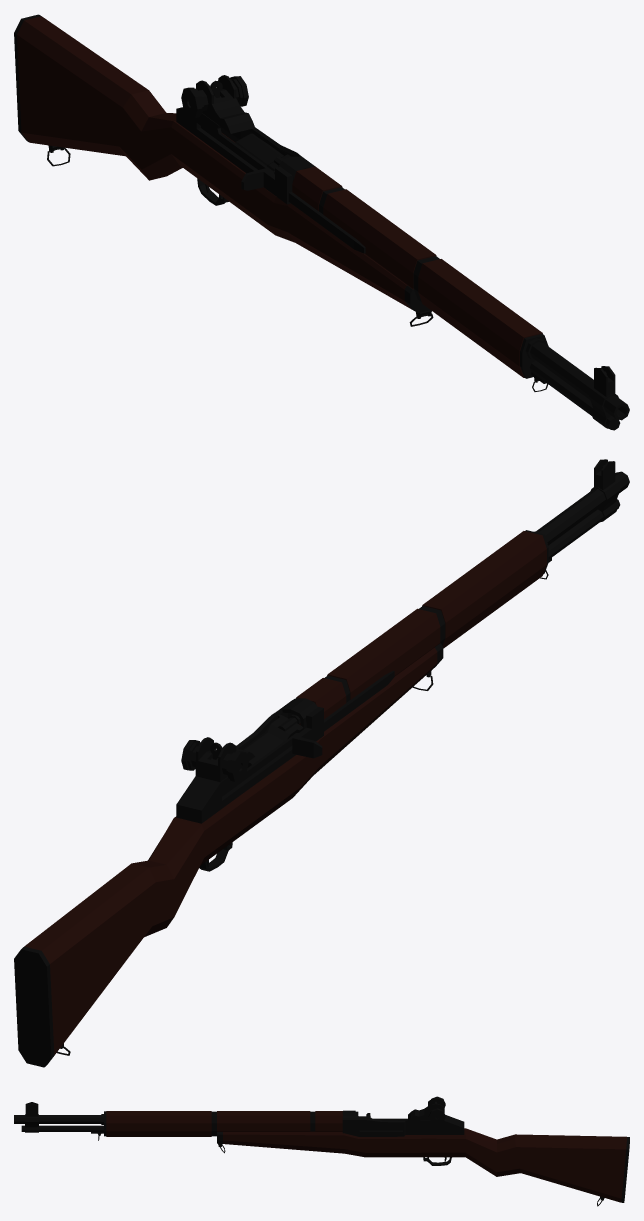
Rendered from M1_Garand.fbx.
3 views of the same model, one above another, from view 1: azimuth 30°, elevation 25°; view 2: azimuth 150°, elevation 25°; view 3: azimuth 270°, elevation 25° (orthographic). The views are drawn at different scales.
Visible parts, largest first — view 1: M1_Garand; view 2: M1_Garand; view 3: M1_Garand.
Boxes of the visible parts, x1,y1,x2,y2 form: M1_Garand: [14, 14, 629, 430]; M1_Garand: [14, 459, 629, 1067]; M1_Garand: [14, 1096, 629, 1206].
Size of the model in its own units: 7.11 by 20.47 by 110.
